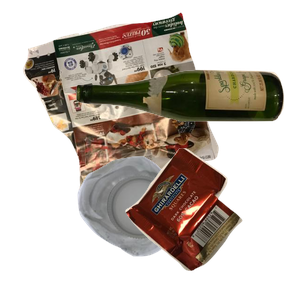glass: (74, 67, 300, 181)
paper: (20, 10, 231, 190)
plastic: (75, 154, 248, 300)
trash: (123, 145, 300, 300)
